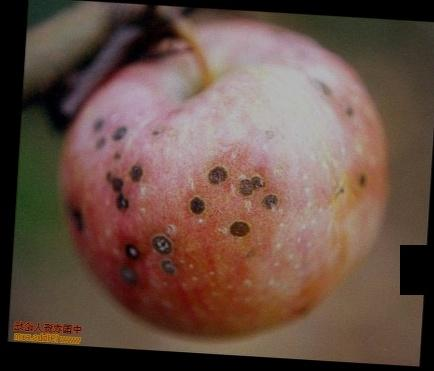rotten apple: (63, 18, 389, 339)
